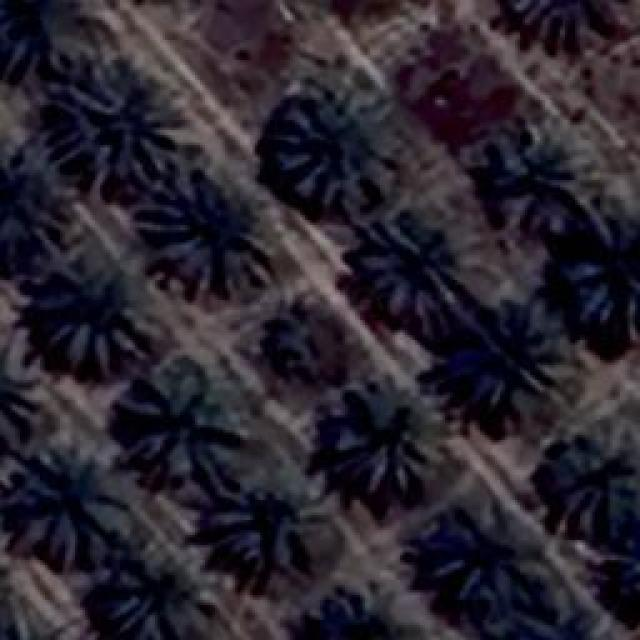PalmTree: (21, 36, 80, 394), (140, 160, 275, 300), (270, 82, 408, 210), (55, 62, 183, 182), (15, 440, 135, 565), (332, 375, 450, 495), (45, 250, 160, 370), (117, 368, 240, 480), (207, 470, 335, 575), (460, 300, 578, 410), (432, 497, 550, 605), (352, 212, 462, 320), (492, 120, 600, 230), (110, 542, 225, 638), (550, 414, 638, 528), (252, 304, 350, 382), (0, 134, 60, 258), (570, 218, 635, 332), (294, 582, 402, 640), (507, 0, 615, 58), (496, 602, 614, 640), (613, 519, 640, 631), (621, 518, 640, 626), (0, 614, 78, 640), (0, 621, 80, 640)
